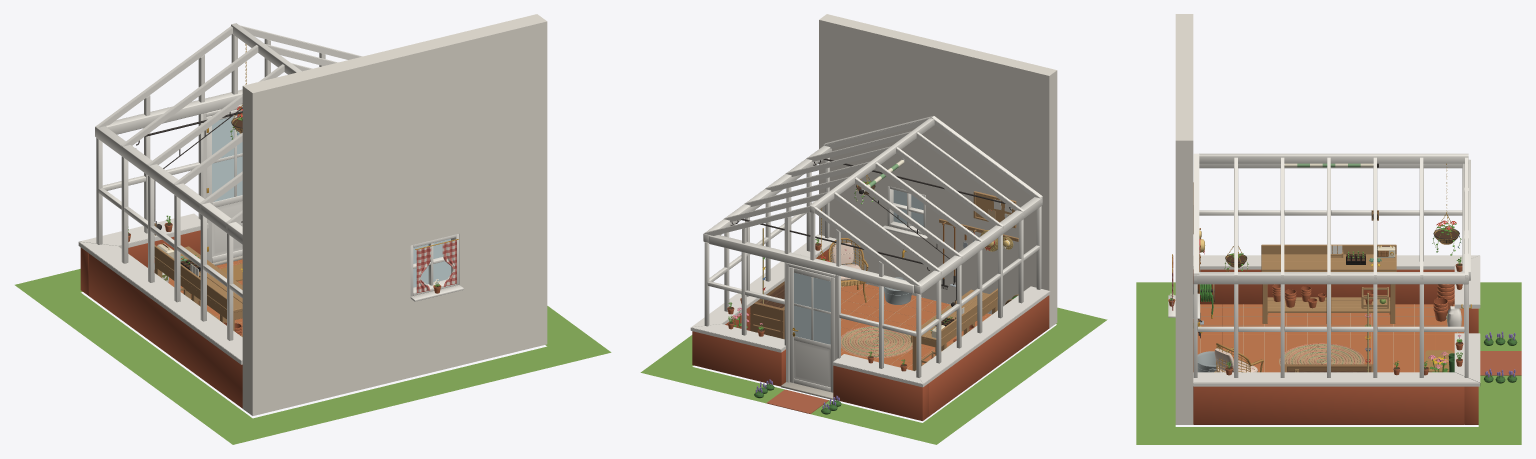
The model's file is room_baked_d.glb.
The picture shows the model from 3 angles, left to right: view 1: azimuth 30°, elevation 25°; view 2: azimuth 150°, elevation 25°; view 3: azimuth 270°, elevation 25°; orthographic projection. The views are drawn at different scales.
Parts seen in each view (by area): view 1: shell_walls, frame_white, garden_ground, door, window_kitchen, bench; view 2: shell_walls, frame_white, garden_ground, door, shell_floor, bench, rug, window_kitchen, raised_bed, door_frame, wicker_chair, photo_board (+1 smaller); view 3: shell_walls, garden_ground, frame_white, shell_floor, bench, rug, bench_shelf_pots, pot_stack, wicker_chair, raised_bed, hanging_basket_n, sill_pots (+4 smaller).
Boxes of the visible parts, <box> form: shell_walls: <box>78,14,547,415</box>; frame_white: <box>95,23,362,340</box>; garden_ground: <box>15,269,611,444</box>; door: <box>206,109,242,262</box>; window_kitchen: <box>410,234,463,301</box>; bench: <box>154,245,242,336</box>; shell_walls: <box>690,14,1057,420</box>; frame_white: <box>703,116,1042,377</box>; garden_ground: <box>640,307,1107,444</box>; door: <box>789,267,834,392</box>; shell_floor: <box>841,283,991,370</box>; bench: <box>911,288,997,370</box>; rug: <box>841,326,912,358</box>; window_kitchen: <box>883,186,928,239</box>; raised_bed: <box>750,281,784,339</box>; door_frame: <box>781,263,837,399</box>; wicker_chair: <box>828,238,868,302</box>; photo_board: <box>973,191,1016,227</box>; shell_walls: <box>1175,14,1480,424</box>; garden_ground: <box>1136,282,1521,444</box>; frame_white: <box>1193,153,1470,377</box>; shell_floor: <box>1193,304,1463,372</box>; bench: <box>1261,244,1396,323</box>; rug: <box>1279,343,1364,365</box>; bench_shelf_pots: <box>1272,284,1388,308</box>; pot_stack: <box>1433,284,1461,326</box>; wicker_chair: <box>1214,343,1263,372</box>; raised_bed: <box>1284,364,1373,372</box>; hanging_basket_n: <box>1432,163,1461,255</box>; sill_pots: <box>1225,257,1463,375</box>.
Size of the model in its own units: 5.4 by 4.45 by 5.4.
Materials: 86 (1 with a texture image).
